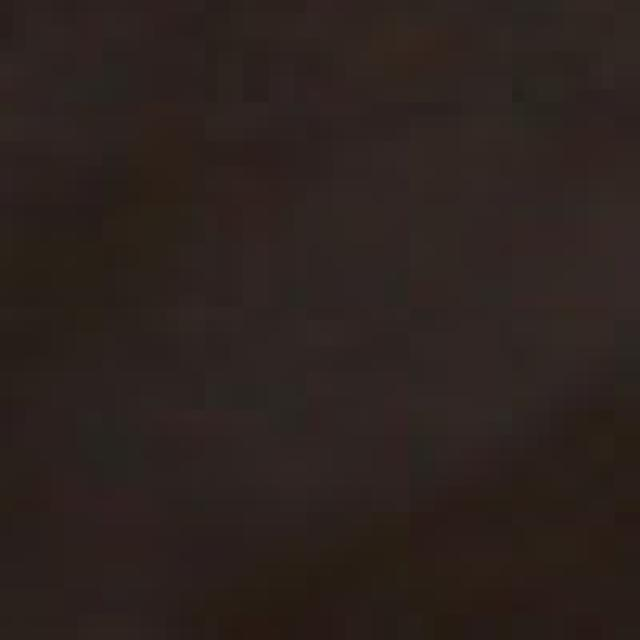no_fire: (38, 26, 640, 588)
